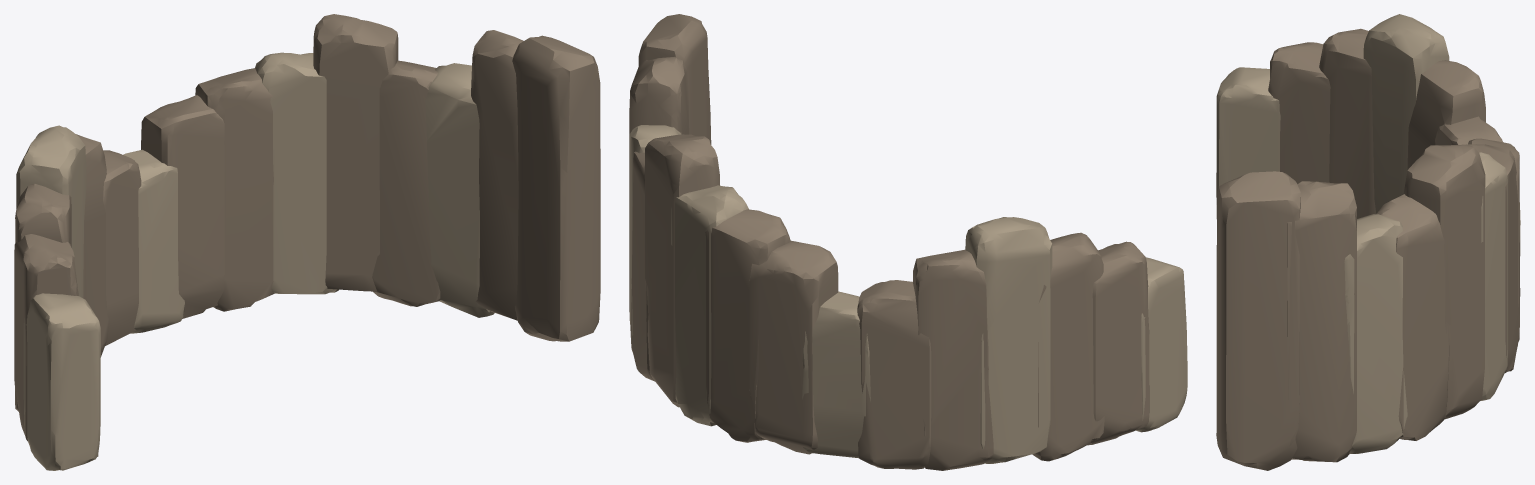
The model's file is castle.glb.
The picture shows the model from 3 angles, left to right: view 1: azimuth 30°, elevation 25°; view 2: azimuth 150°, elevation 25°; view 3: azimuth 270°, elevation 25°; orthographic projection. The views are drawn at different scales.
Parts seen in each view (by area): view 1: stone14, stone10, lime9, lime0, stone11, stone8, lime12, stone7, stone13, lime6, stone5, stone1 (+3 smaller); view 2: lime3, stone7, stone4, stone5, stone8, stone2, stone1, stone10, lime9, lime6, lime0, stone14 (+3 smaller); view 3: stone14, stone13, stone10, lime12, stone11, lime3, stone2, stone1, lime0, lime9, stone4, stone8 (+2 smaller).
Part boxes in pixels (x1,y1,x2,y2): stone14: [512, 35, 600, 341]; stone10: [313, 14, 398, 291]; lime9: [255, 52, 338, 294]; lime0: [23, 293, 100, 470]; stone11: [372, 60, 440, 306]; stone8: [195, 68, 274, 311]; lime12: [425, 63, 494, 317]; stone7: [141, 95, 224, 318]; stone13: [471, 30, 523, 320]; lime6: [123, 149, 184, 333]; stone5: [103, 150, 141, 345]; stone1: [14, 234, 78, 441]; lime3: [965, 217, 1052, 463]; stone7: [749, 240, 838, 454]; stone4: [913, 249, 993, 470]; stone5: [857, 280, 931, 469]; stone8: [705, 209, 790, 442]; stone2: [1032, 232, 1104, 461]; stone1: [1087, 241, 1149, 445]; stone10: [645, 134, 719, 407]; lime9: [671, 185, 749, 426]; lime6: [802, 291, 870, 458]; lime0: [1136, 257, 1187, 432]; stone14: [638, 14, 711, 144]; stone14: [1216, 171, 1300, 470]; stone13: [1287, 181, 1356, 462]; stone10: [1403, 144, 1485, 419]; lime12: [1344, 214, 1407, 453]; stone11: [1376, 194, 1449, 440]; lime3: [1363, 14, 1449, 213]; stone2: [1319, 28, 1376, 218]; stone1: [1268, 42, 1330, 183]; lime0: [1216, 67, 1280, 218]; lime9: [1479, 152, 1507, 400]; stone4: [1407, 60, 1485, 169]; stone8: [1467, 144, 1520, 372].
Bounding box in the file's own units: 9.89 × 5.11 × 4.92.
